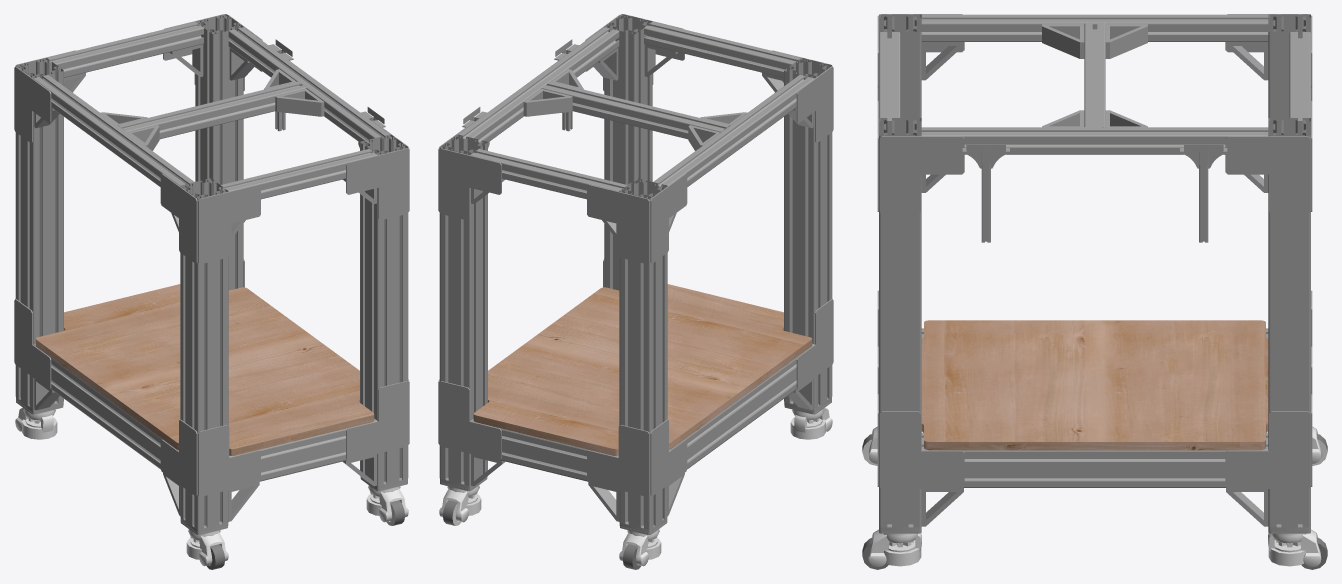
Rendered from homecart_basecart.gltf.
3 renders of one model, left to right at view 1: azimuth 30°, elevation 25°; view 2: azimuth 150°, elevation 25°; view 3: azimuth 270°, elevation 25°, orthographic. The views are drawn at different scales.
Visible parts, largest first — view 1: homecart_basecart; view 2: homecart_basecart; view 3: homecart_basecart.
Part boxes in pixels (bbox=[...]): homecart_basecart: bbox=[14, 14, 409, 569]; homecart_basecart: bbox=[438, 14, 833, 569]; homecart_basecart: bbox=[862, 14, 1327, 569].
Size of the model in its own units: 0.6495 by 1.03 by 0.9854.
Materials: 5 (1 with a texture image).
